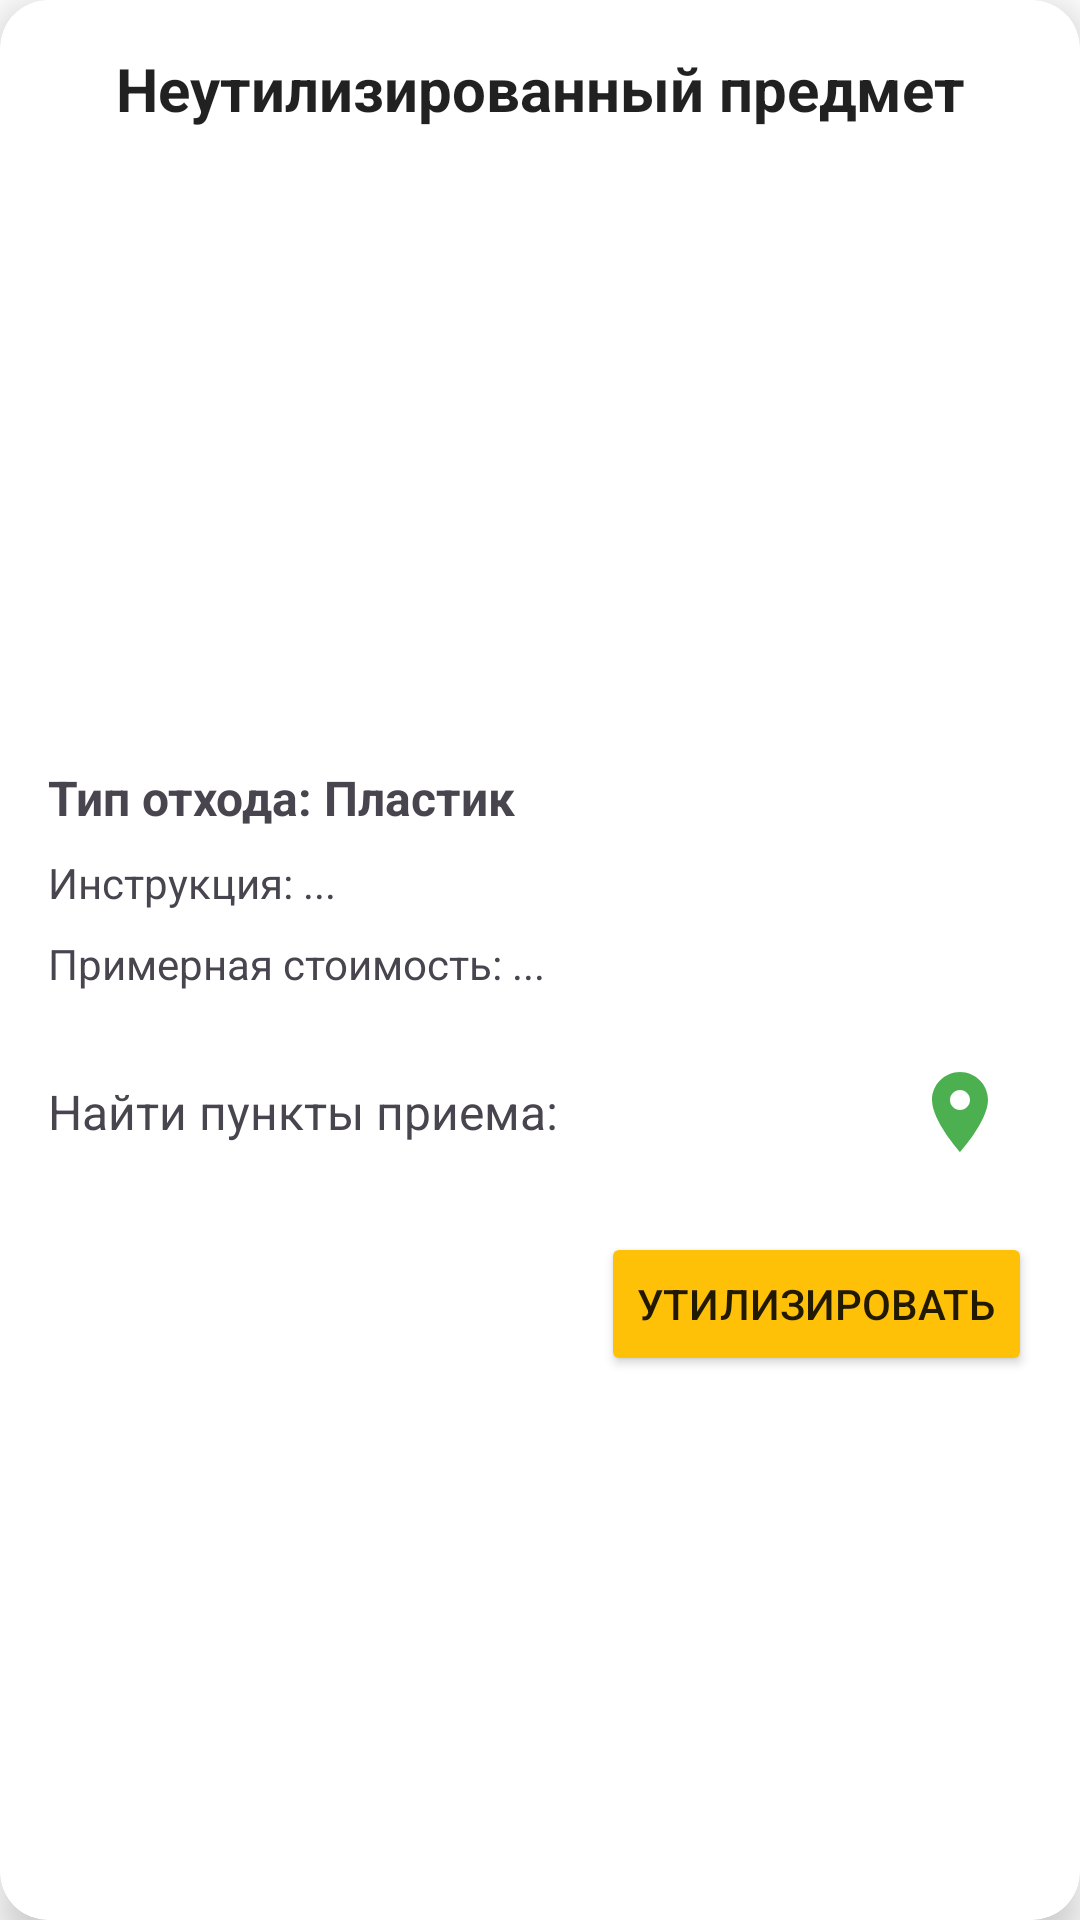

Locate icon controls on the screen. Image size 1080w x 1920h, boxes as (x1, y1, x2, y2).
Открыть карту: (932, 1072, 988, 1152)
